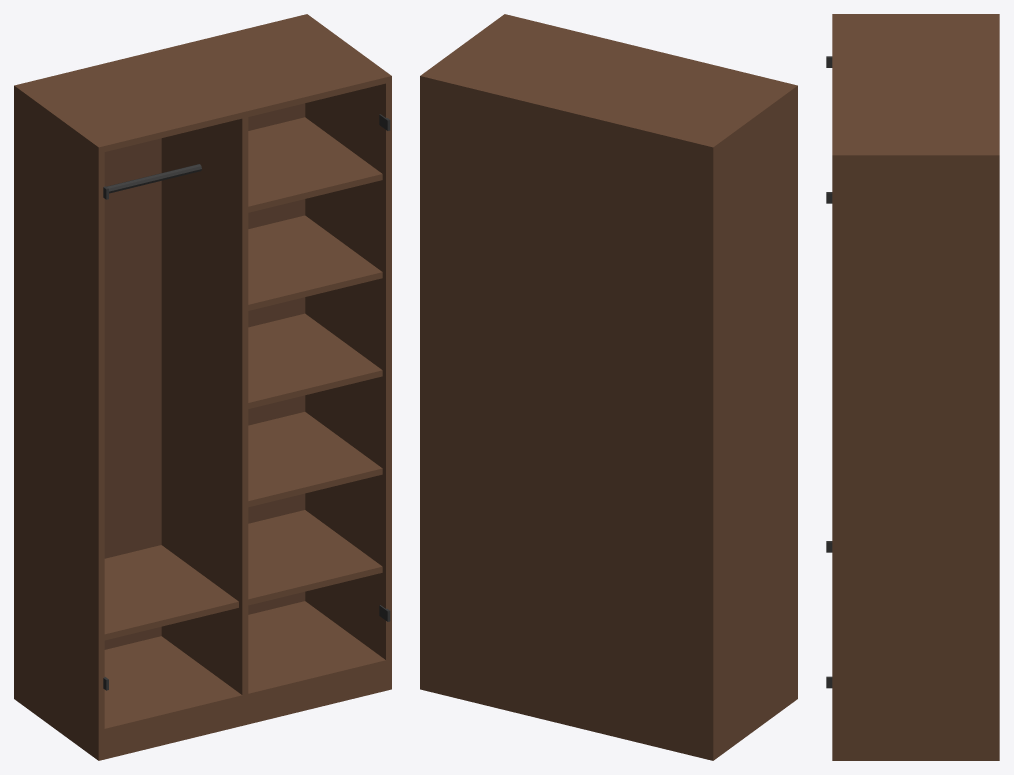
Rendered from Wardrobe1_C3.fbx.
3 renders of one model, left to right at view 1: azimuth 30°, elevation 25°; view 2: azimuth 150°, elevation 25°; view 3: azimuth 270°, elevation 25°, orthographic.
Parts seen in each view (by area): view 1: Wardrobe1_C3; view 2: Wardrobe1_C3; view 3: Wardrobe1_C3.
Part boxes in pixels (x1,y1,x2,y2): Wardrobe1_C3: (14, 14, 391, 760); Wardrobe1_C3: (420, 14, 797, 760); Wardrobe1_C3: (826, 14, 999, 760).
Size of the model in its own units: 100 by 200 by 51.79.
